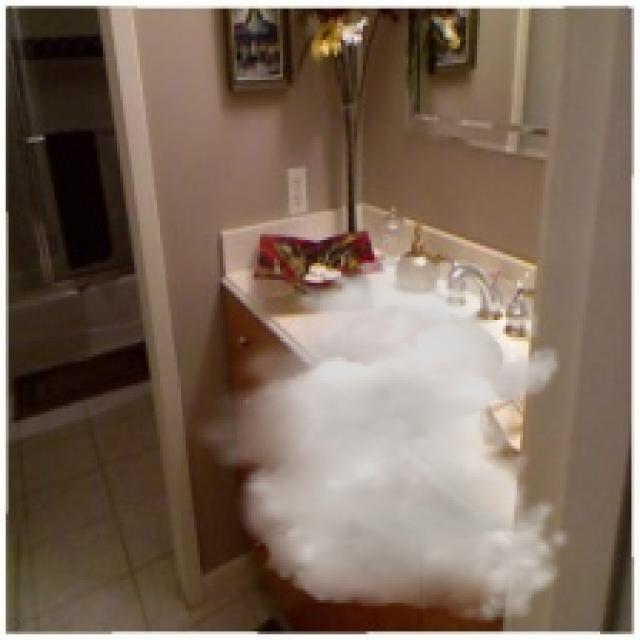Smoke: (188, 254, 572, 623)
